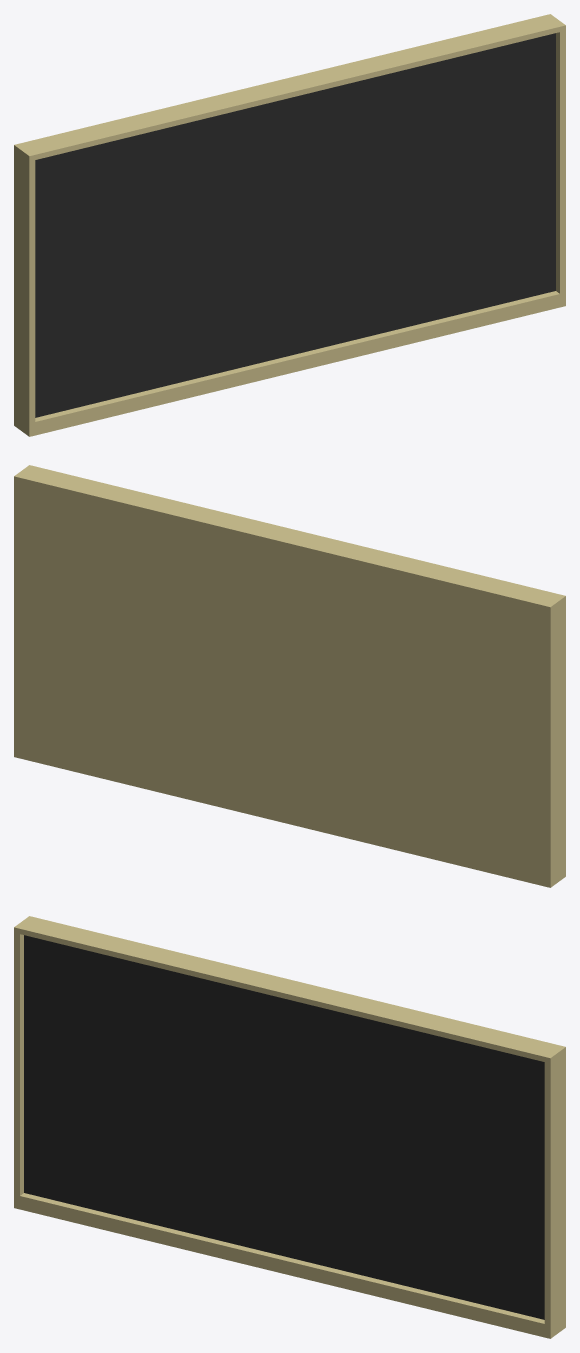
File: digibord c.fbx
3 views of the same model, one above another, from view 1: azimuth 30°, elevation 25°; view 2: azimuth 150°, elevation 25°; view 3: azimuth 330°, elevation 25° (orthographic).
Parts seen in each view (by area): view 1: Cube; view 2: Cube; view 3: Cube.
Boxes of the visible parts, <box> form: Cube: <box>14,14,565,436</box>; Cube: <box>14,465,565,887</box>; Cube: <box>14,916,565,1338</box>.
Size of the model in its own units: 200 by 100 by 10.
